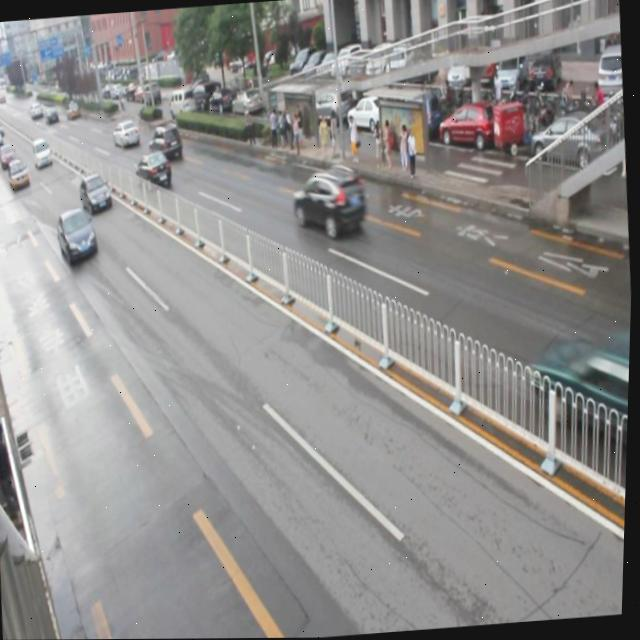car: (526, 329, 632, 456), (290, 164, 369, 240), (56, 206, 100, 264), (135, 149, 174, 190), (147, 120, 185, 161), (80, 171, 115, 213), (113, 120, 140, 147)
